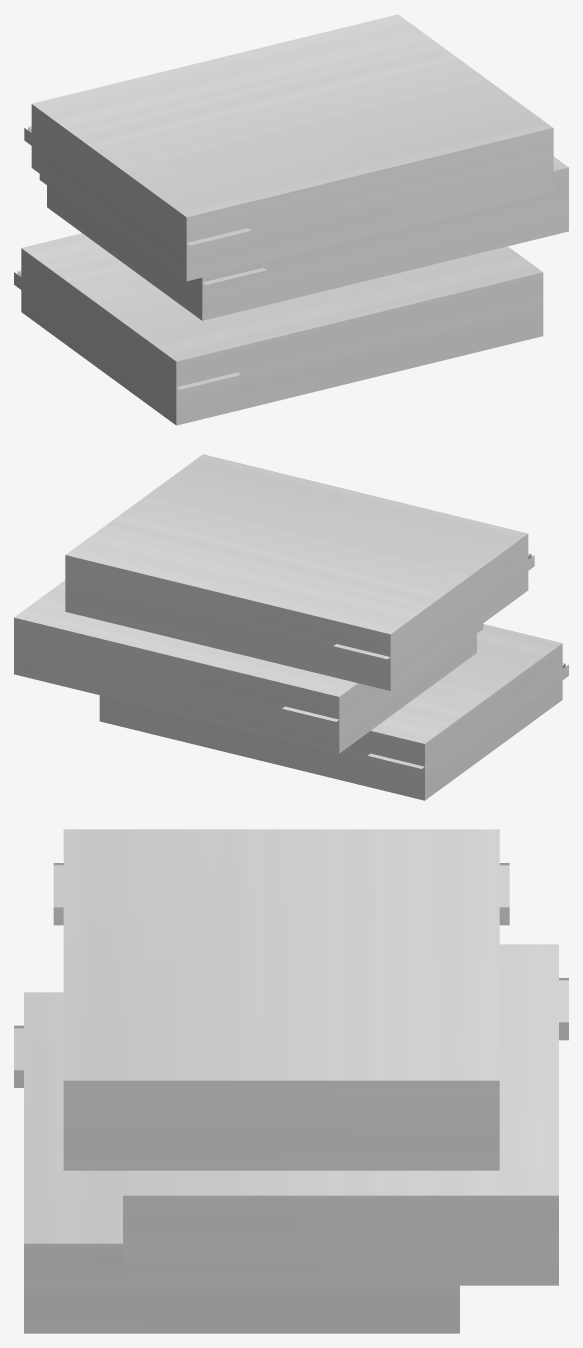
The model's file is meal_survival.obj.
3 views of the same model, one above another, from view 1: azimuth 30°, elevation 25°; view 2: azimuth 150°, elevation 25°; view 3: azimuth 270°, elevation 25° (orthographic). The views are drawn at different scales.
Visible parts, largest first — view 1: meal_survival; view 2: meal_survival; view 3: meal_survival.
Boxes of the visible parts, x1,y1,x2,y2 form: meal_survival: (14, 14, 568, 425); meal_survival: (14, 454, 568, 800); meal_survival: (14, 829, 568, 1333).
Bounding box in the file's own units: 0.353 × 0.15 × 0.28.
